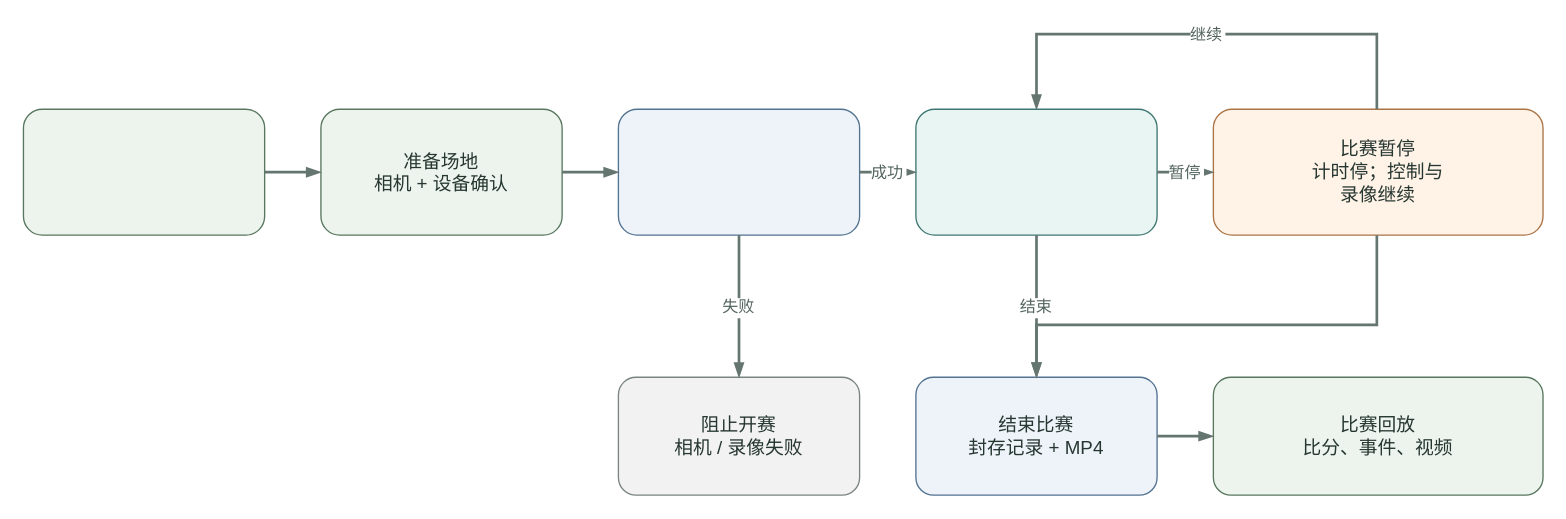
This 1566x519 diagram has some shape labels left out. The shapes that lost their labels are listed below. From the top down, each one's centre as x and y in pixels, then its label:
At (x=143, y=171): "分配设备 蓝 / 红队席位".
At (x=738, y=171): "启动录像 成功后才能开赛".
At (x=1036, y=171): "比赛进行 计时 + 计分".
